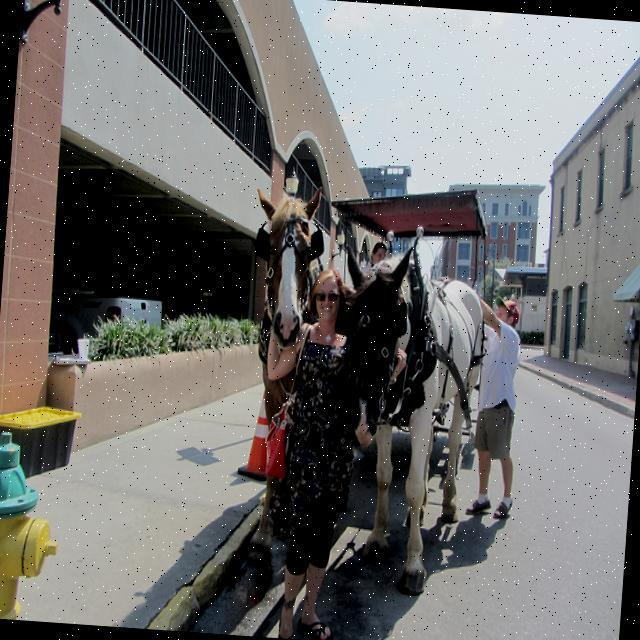fire_hydrant: (0, 430, 64, 621)
